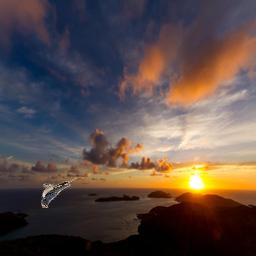Swallow: (41, 178, 77, 209)
